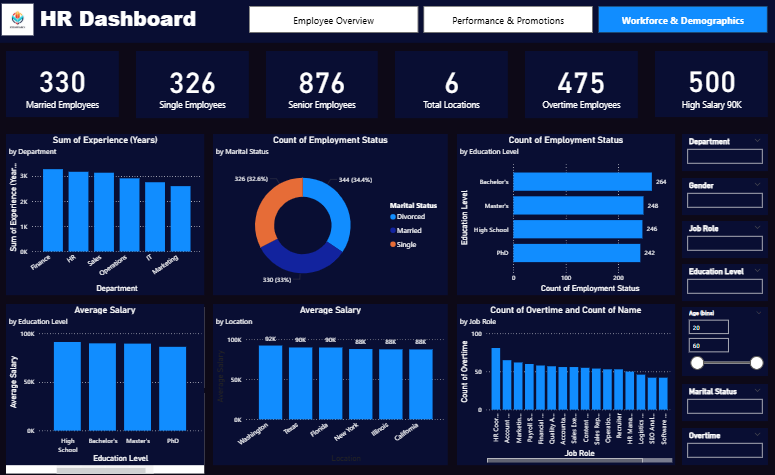

The dashboard page shown, as its layout file describes it:
{"tool":"powerbi","page":{"name":"Workforce & Demographics","canvas":[1450,900],"ordinal":2},"visuals":[{"type":"shape","box":[0,0,1450,89.3],"z":0},{"type":"card","fields":{"Values":["HR Dataset.Married Employees"]},"box":[15,104.7,210.3,123.5],"z":0,"group":"g1"},{"type":"columnChart","fields":{"Category":["HR Dataset.Department"],"Y":["Sum(HR Dataset.Experience (Years))"]},"box":[14.9,258.7,368.5,299.7],"z":0,"group":"g2"},{"type":"columnChart","fields":{"Category":["HR Dataset.Education Level"],"Y":["HR Dataset.Average Salary"]},"box":[14.9,574.7,368.5,299.7],"z":0,"group":"g3"},{"type":"image","box":[0,11.5,72.3,69],"z":1000},{"type":"card","fields":{"Values":["HR Dataset.Single Employees"]},"box":[256.9,104.1,210.3,124.7],"z":1000,"group":"g1"},{"type":"donutChart","fields":{"Y":["CountNonNull(HR Dataset.Employment Status)"],"Category":["HR Dataset.Marital Status"]},"box":[400.2,258.7,437.4,299.7],"z":1000,"group":"g2"},{"type":"columnChart","fields":{"Category":["HR Dataset.Location"],"Y":["HR Dataset.Average Salary"]},"box":[400.2,574.7,437.4,299.7],"z":1000,"group":"g3"},{"type":"textbox","box":[72.6,11.2,327.6,68.9],"z":2000},{"type":"card","fields":{"Values":["HR Dataset.Senior Employees"]},"box":[498.9,104.1,208.5,124.7],"z":2000,"group":"g1"},{"type":"barChart","fields":{"Category":["HR Dataset.Education Level"],"Y":["CountNonNull(HR Dataset.Employment Status)"]},"box":[854.4,258.7,405.8,299.7],"z":2000,"group":"g2"},{"type":"columnChart","fields":{"Category":["HR Dataset.Job Role"],"Y":["CountNonNull(HR Dataset.Overtime)"]},"box":[854.4,574.7,405.8,299.7],"z":2000,"group":"g3"},{"type":"group","id":"g1","title":"Group 1","box":[15,104.1,1418.2,124.7],"z":3000},{"type":"card","fields":{"Values":["HR Dataset.Total Locations"]},"box":[739,104.1,210.3,124.7],"z":3000,"group":"g1"},{"type":"card","fields":{"Values":["HR Dataset.Overtime Employees"]},"box":[980.9,104.1,210.3,124.7],"z":4000,"group":"g1"},{"type":"group","id":"g2","title":"Group 2","box":[14.9,258.7,1245.3,632.3],"z":4000},{"type":"card","fields":{"Values":["HR Dataset.High Salary 25K"]},"box":[1222.9,105,210.3,122.8],"z":5000,"group":"g1"},{"type":"group","id":"g3","title":"Group 2","box":[14.9,574.7,1245.3,299.7],"z":5000},{"type":"slicer","fields":{"Values":["HR Dataset.Department"]},"box":[1273.2,258.7,160.1,68.9],"z":6000},{"type":"slicer","fields":{"Values":["HR Dataset.Gender"]},"box":[1273.2,340.6,160.1,68.9],"z":7000},{"type":"slicer","fields":{"Values":["HR Dataset.Job Role"]},"box":[1273.2,420.7,160.1,68.9],"z":8000},{"type":"slicer","fields":{"Values":["HR Dataset.Education Level"]},"box":[1273.2,500.7,160.1,68.9],"z":9000},{"type":"slicer","fields":{"Values":["HR Dataset.Age (bins)"]},"box":[1273.2,580.7,160.1,126.6],"z":10000},{"type":"pageNavigator","box":[467.2,20.5,966,50.3],"z":10001},{"type":"slicer","fields":{"Values":["HR Dataset.Marital Status"]},"box":[1273.2,724.1,160.1,68.9],"z":10002},{"type":"slicer","fields":{"Values":["HR Dataset.Overtime"]},"box":[1273.2,806,160.1,68.9],"z":10003},{"type":"columnChart","box":[15,581,369,150],"z":10004,"group":"g2"},{"type":"barChart","box":[15,741,369,150],"z":10004,"group":"g2"}]}

Visuals, with their boxes in screenshot pixels (x1, y1, x2, y2), scaled from the page's 1450x900 canvas onto the 775x475 screenshot:
shape: crop(0, 0, 774, 47)
card - HR Dataset.Married Employees: crop(8, 55, 120, 120)
columnChart - HR Dataset.Department x Sum(HR Dataset.Experience (Years)): crop(8, 137, 205, 295)
columnChart - HR Dataset.Education Level x HR Dataset.Average Salary: crop(8, 303, 205, 461)
image: crop(0, 6, 39, 42)
card - HR Dataset.Single Employees: crop(137, 55, 250, 121)
donutChart - CountNonNull(HR Dataset.Employment Status) x HR Dataset.Marital Status: crop(214, 137, 448, 295)
columnChart - HR Dataset.Location x HR Dataset.Average Salary: crop(214, 303, 448, 461)
textbox: crop(39, 6, 214, 42)
card - HR Dataset.Senior Employees: crop(267, 55, 378, 121)
barChart - HR Dataset.Education Level x CountNonNull(HR Dataset.Employment Status): crop(457, 137, 674, 295)
columnChart - HR Dataset.Job Role x CountNonNull(HR Dataset.Overtime): crop(457, 303, 674, 461)
"Group 1" group: crop(8, 55, 766, 121)
card - HR Dataset.Total Locations: crop(395, 55, 507, 121)
card - HR Dataset.Overtime Employees: crop(524, 55, 637, 121)
"Group 2" group: crop(8, 137, 674, 470)
card - HR Dataset.High Salary 25K: crop(654, 55, 766, 120)
"Group 2" group: crop(8, 303, 674, 461)
slicer - HR Dataset.Department: crop(681, 137, 766, 173)
slicer - HR Dataset.Gender: crop(681, 180, 766, 216)
slicer - HR Dataset.Job Role: crop(681, 222, 766, 258)
slicer - HR Dataset.Education Level: crop(681, 264, 766, 301)
slicer - HR Dataset.Age (bins): crop(681, 306, 766, 373)
pageNavigator: crop(250, 11, 766, 37)
slicer - HR Dataset.Marital Status: crop(681, 382, 766, 419)
slicer - HR Dataset.Overtime: crop(681, 425, 766, 462)
columnChart: crop(8, 307, 205, 386)
barChart: crop(8, 391, 205, 470)
